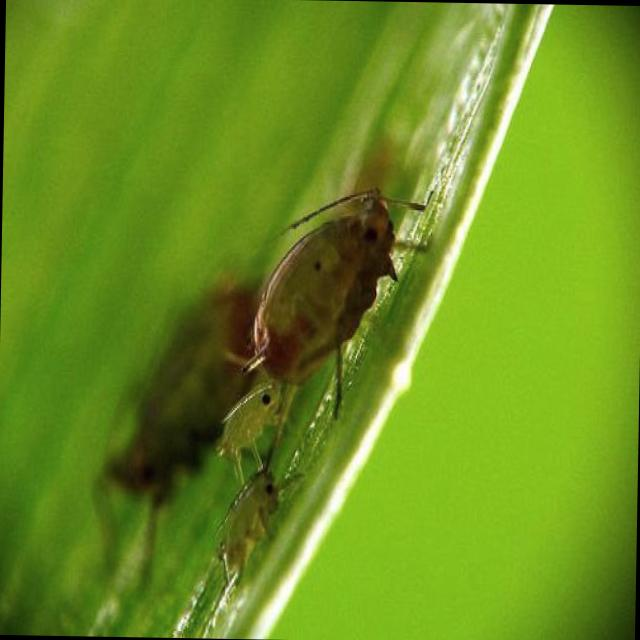Aphids: (217, 159, 429, 373), (202, 449, 290, 572), (206, 366, 290, 477)
